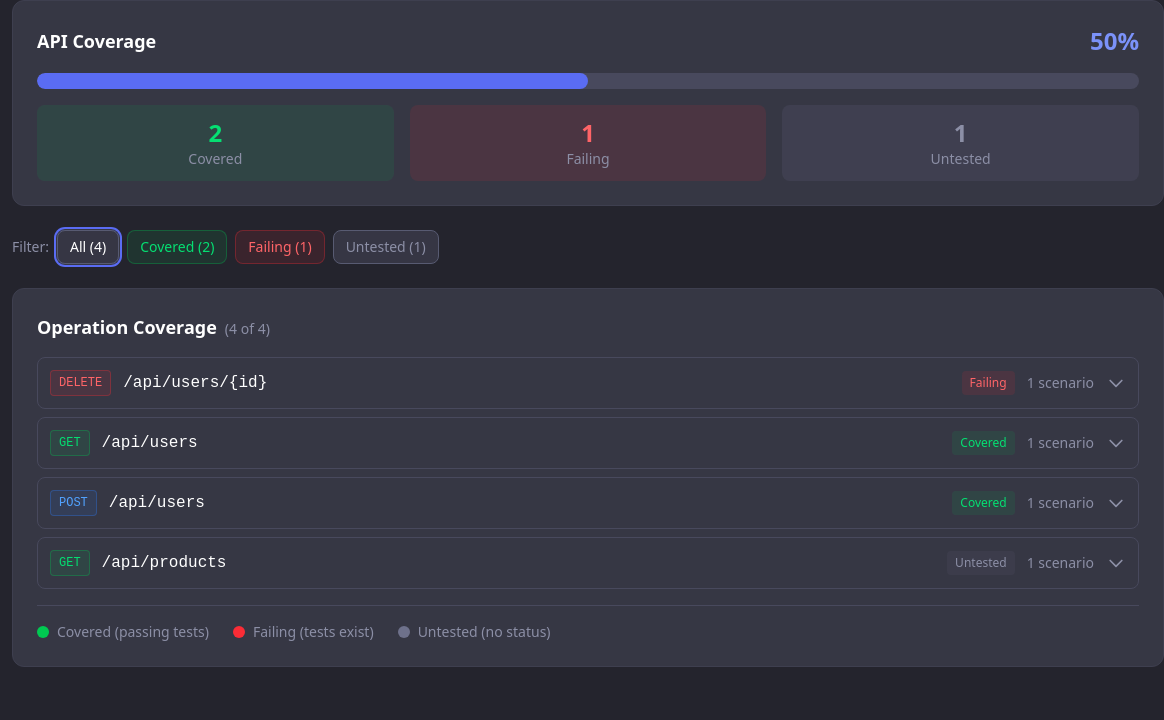
Test: OperationCoverageTable › filters by untested status
Click the button "Untested (1)": coordinates (386, 247) left=333, top=230, right=439, bottom=264
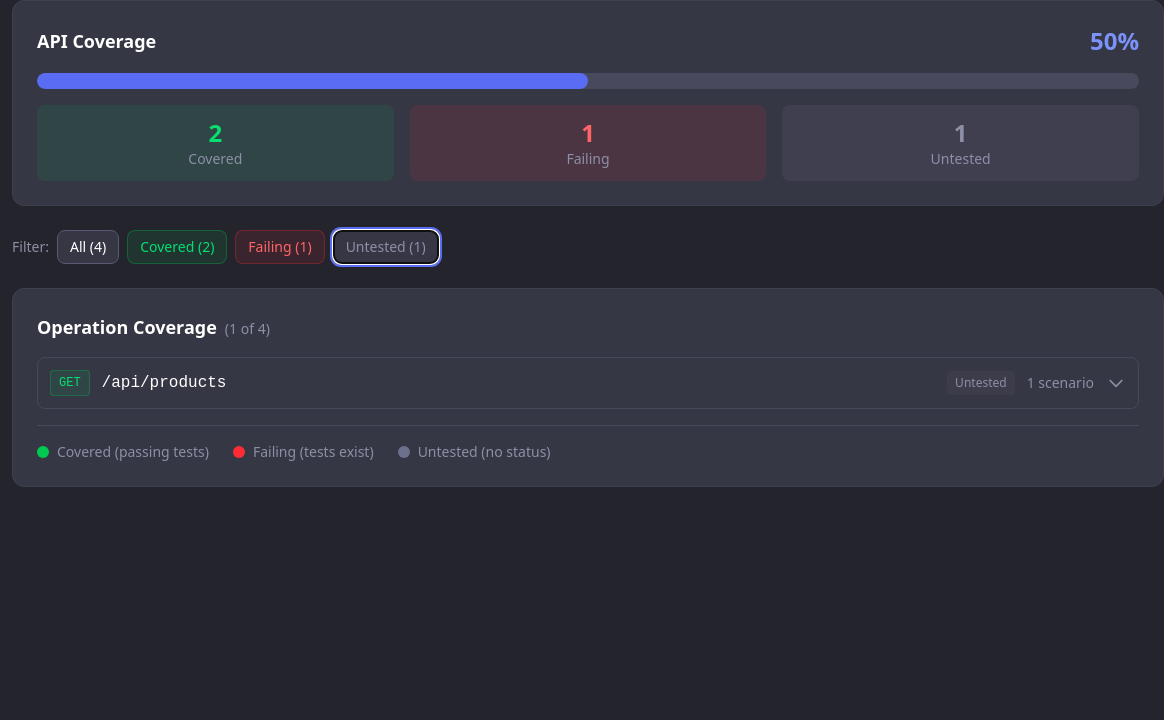
Expected: the text "/api/products" is shown, left=102, top=374, right=226, bottom=392
Expected: the text "(1 of 4)" is shown, left=225, top=319, right=270, bottom=338
